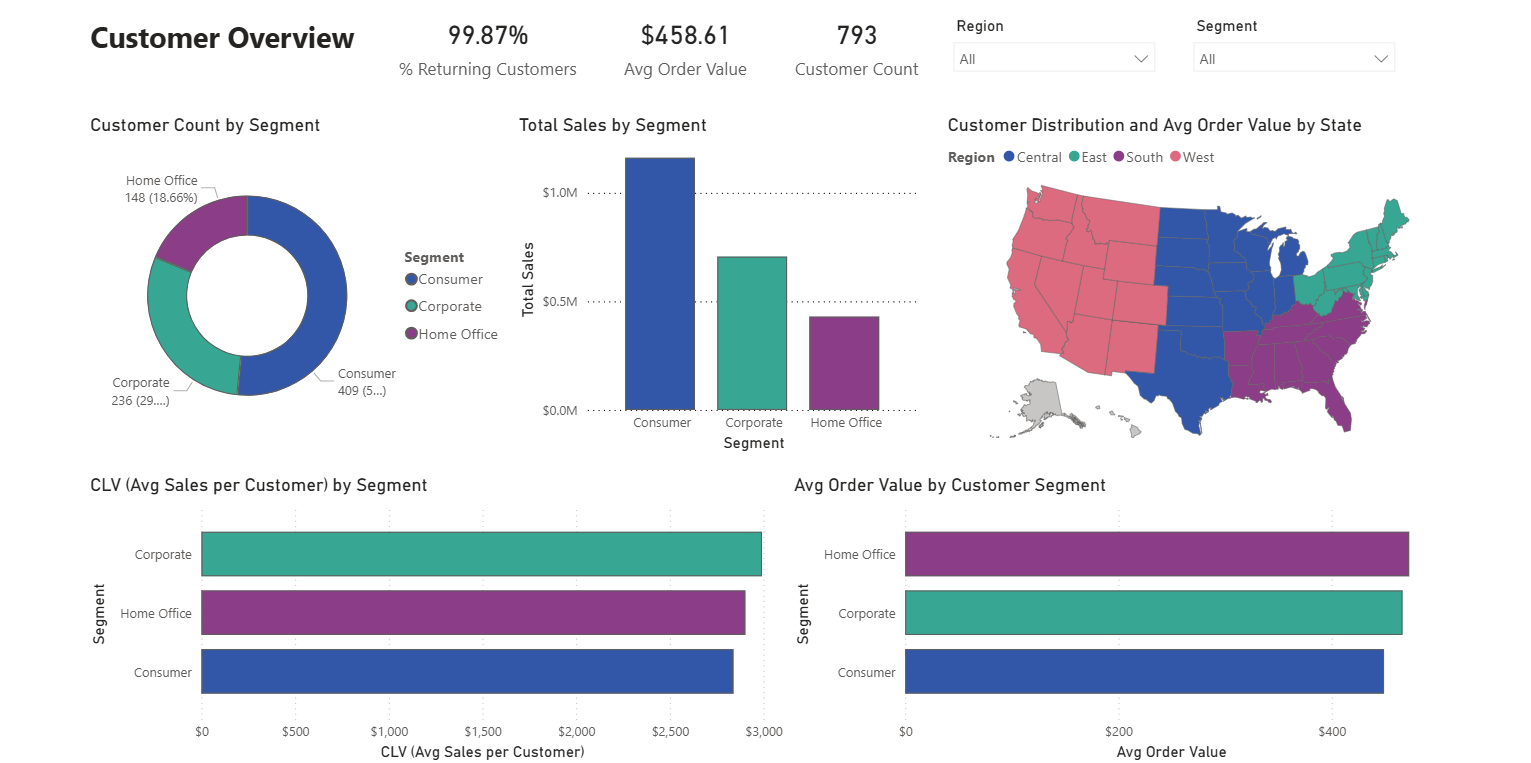

What the dashboard file says about the page in this screenshot:
{"tool":"powerbi","page":{"name":"Customer Overview","canvas":[1280,720],"ordinal":3},"visuals":[{"type":"textbox","box":[0,16,272,48],"z":0},{"type":"donutChart","fields":{"Category":["DimCustomer.Segment"],"Y":["MeasureALL.Customer Count"]},"box":[0,112,400,320],"z":1000},{"type":"clusteredColumnChart","fields":{"Category":["DimCustomer.Segment"],"Y":["MeasureALL.Total Sales"]},"box":[400,112,384,320],"z":2000},{"type":"shapeMap","title":"Customer Distribution and Avg Order Value by State","fields":{"Category":["DimRegion.State"],"Series":["DimRegion.Region"],"Value":["MeasureALL.Customer Count"]},"box":[800,112,480,320],"z":5000},{"type":"card","fields":{"Values":["MeasureALL.% Returning Customers"]},"box":[288,0,176,96],"z":6000},{"type":"card","fields":{"Values":["MeasureALL.Avg Order Value"]},"box":[480,0,160,96],"z":7000},{"type":"card","fields":{"Values":["MeasureALL.Customer Count"]},"box":[640,0,160,96],"z":8000},{"type":"slicer","fields":{"Values":["DimRegion.Region"]},"box":[800,16,208,80],"z":9000},{"type":"slicer","fields":{"Values":["DimCustomer.Segment"]},"box":[1024,16,208,80],"z":10000},{"type":"barChart","fields":{"Category":["DimCustomer.Segment"],"Y":["MeasureALL.CLV (Avg Sales per Customer)"]},"box":[0,448,656,272],"z":10001},{"type":"barChart","title":"Avg Order Value by Customer Segment","fields":{"Category":["DimCustomer.Segment"],"Y":["MeasureALL.Avg Order Value"]},"box":[656,448,624,272],"z":10002}]}

Visuals, with their boxes on the page's 1280x720 design canvas (x1, y1, x2, y2). These are canvas units, not pixel positions in the 1531x763 screenshot, which may show the page scaled, cropped or inside an application window:
textbox: 0:16:272:64
donutChart - DimCustomer.Segment x MeasureALL.Customer Count: 0:112:400:432
clusteredColumnChart - DimCustomer.Segment x MeasureALL.Total Sales: 400:112:784:432
"Customer Distribution and Avg Order Value by State" shapeMap: 800:112:1280:432
card - MeasureALL.% Returning Customers: 288:0:464:96
card - MeasureALL.Avg Order Value: 480:0:640:96
card - MeasureALL.Customer Count: 640:0:800:96
slicer - DimRegion.Region: 800:16:1008:96
slicer - DimCustomer.Segment: 1024:16:1232:96
barChart - DimCustomer.Segment x MeasureALL.CLV (Avg Sales per Customer): 0:448:656:720
"Avg Order Value by Customer Segment" barChart: 656:448:1280:720
